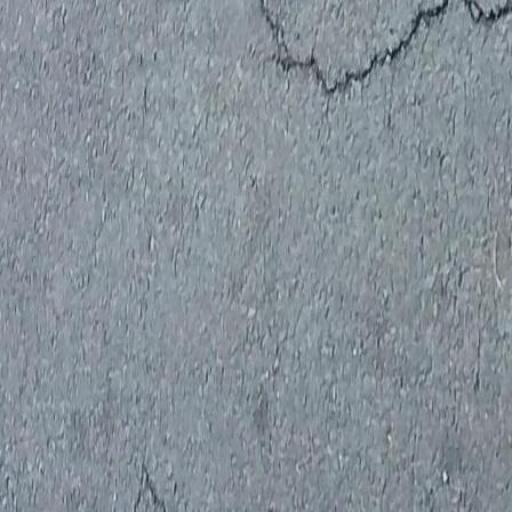spalling: (256, 1, 506, 106)
